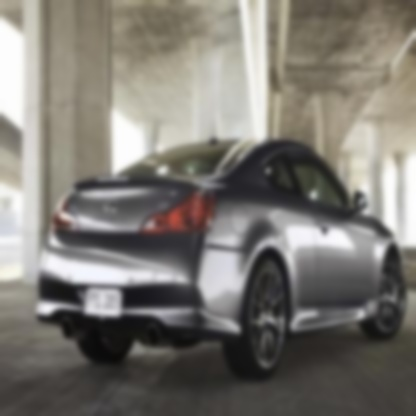Vehicle: (35, 136, 408, 384)
